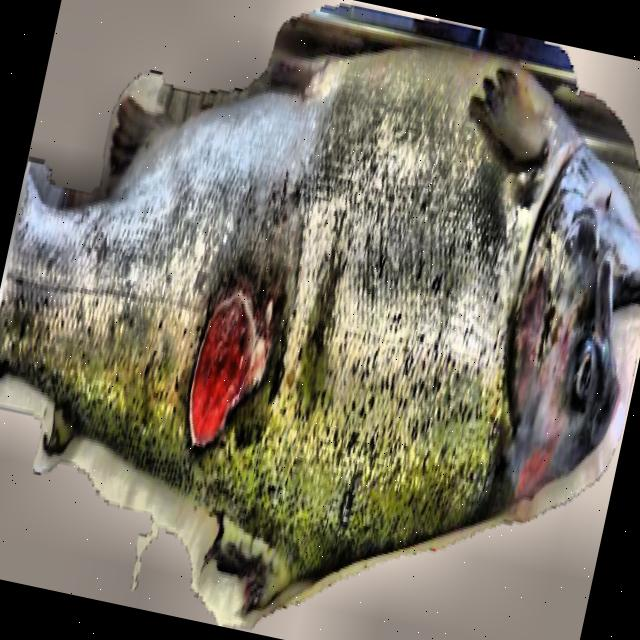mild_red: (0, 48, 535, 572)
wound: (186, 290, 271, 450)
